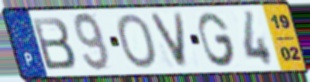4: (242, 9, 273, 68)
9: (74, 11, 112, 75)
B: (29, 16, 78, 72)
G: (196, 10, 239, 69)
O: (114, 12, 160, 71)
V: (146, 11, 191, 70)
